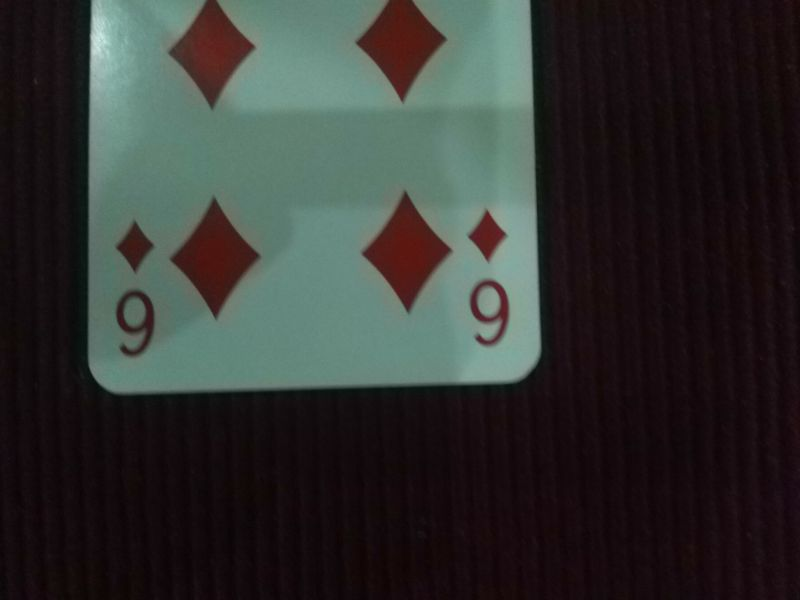6d: (462, 204, 522, 354), (105, 216, 164, 364)
